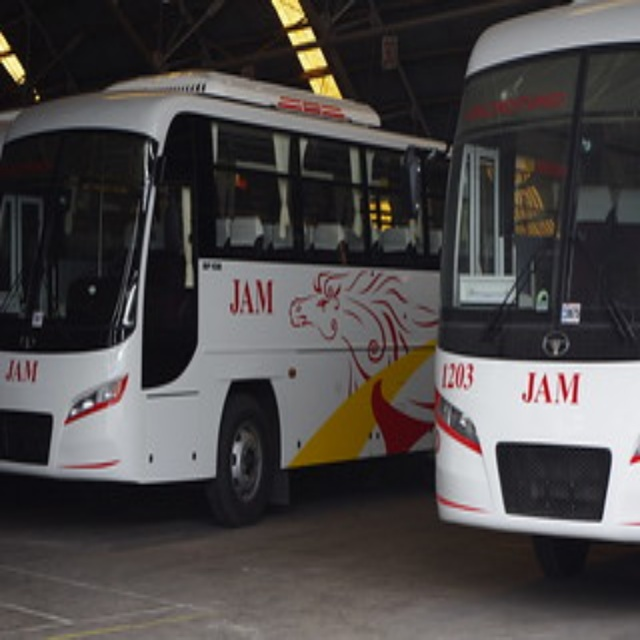Bus: (2, 66, 434, 523), (434, 3, 640, 577)
